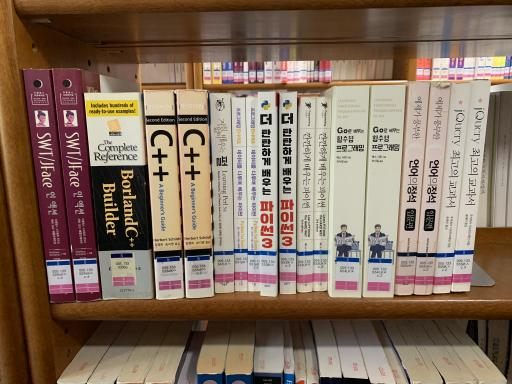book-spine: (85, 93, 154, 300), (22, 69, 76, 303), (51, 69, 101, 301), (363, 85, 406, 298), (330, 86, 370, 298), (144, 89, 184, 300), (175, 89, 214, 298), (452, 80, 490, 291), (433, 83, 471, 293), (395, 81, 432, 295), (415, 81, 451, 295), (210, 94, 235, 293), (313, 97, 332, 292), (259, 92, 277, 296), (298, 98, 316, 293), (231, 98, 248, 291), (280, 92, 296, 294), (246, 98, 261, 291)
